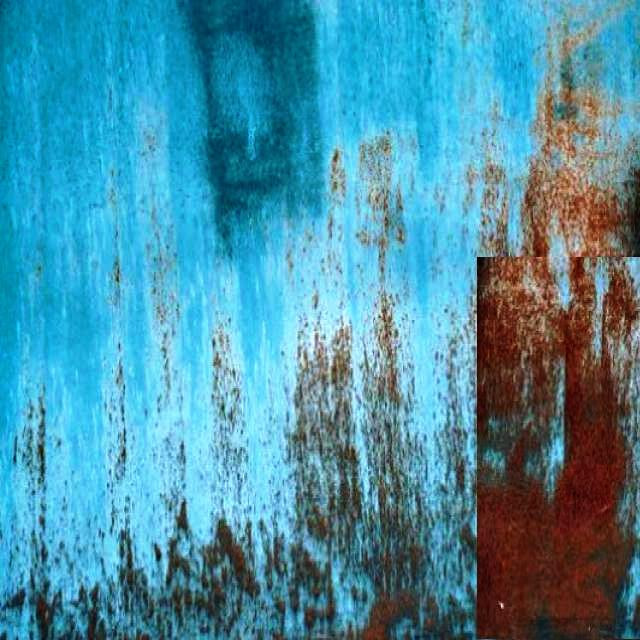Corrosion: (479, 258, 640, 640), (0, 507, 440, 640), (288, 296, 475, 600), (522, 92, 640, 256)
